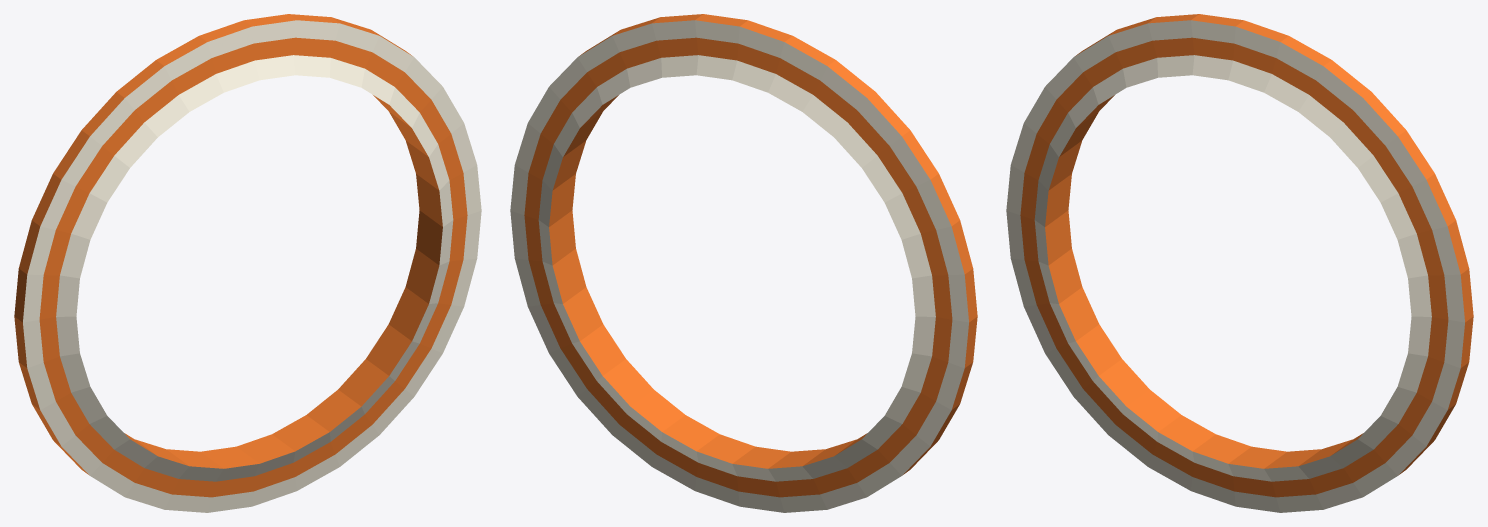
File: Ring.fbx
3 renders of one model, left to right at view 1: azimuth 30°, elevation 25°; view 2: azimuth 150°, elevation 25°; view 3: azimuth 330°, elevation 25°, orthographic.
Visible parts, largest first — view 1: Circle.001; view 2: Circle.001; view 3: Circle.001.
Part boxes in pixels (x1,y1,x2,y2): Circle.001: (14, 14, 481, 512); Circle.001: (510, 14, 977, 512); Circle.001: (1006, 14, 1473, 512).
Bounding box in the file's own units: 784 × 784 × 69.33.
